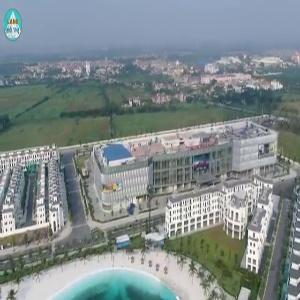drone: (118, 193, 155, 230)
